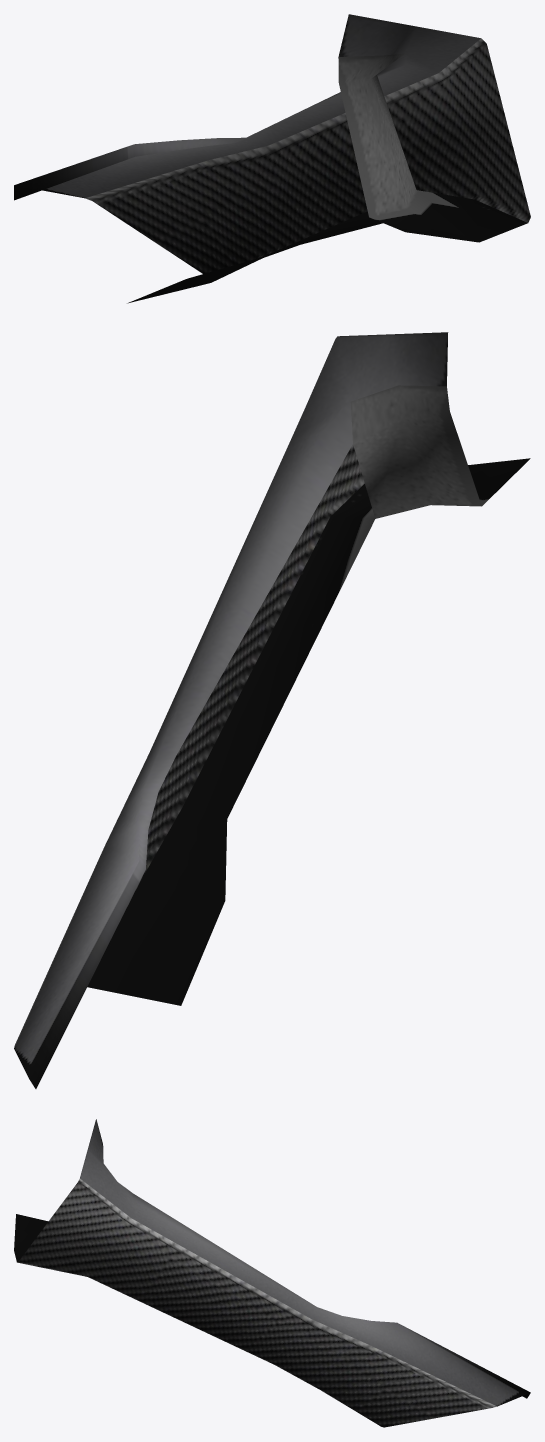
File: neimenbashou.FBX
The picture shows the model from 3 angles, top to bottom: view 1: azimuth 30°, elevation 25°; view 2: azimuth 150°, elevation 25°; view 3: azimuth 270°, elevation 25°; orthographic projection. The views are drawn at different scales.
Visible parts, largest first — view 1: neimenbashou; view 2: neimenbashou; view 3: neimenbashou.
Part boxes in pixels (left/top/right/bottom): neimenbashou: left=14, top=14, right=530, bottom=303; neimenbashou: left=14, top=332, right=530, bottom=1088; neimenbashou: left=14, top=1119, right=530, bottom=1427.
Bounding box in the file's own units: 32.85 × 110 × 186.
